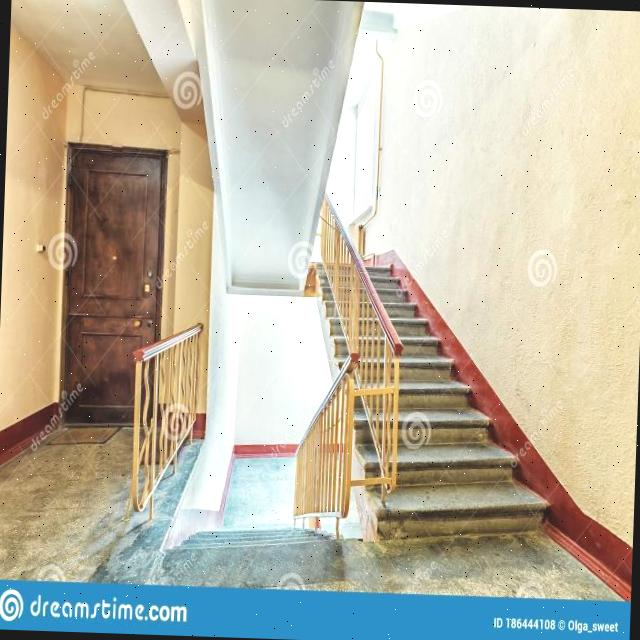stairs: (303, 253, 557, 548)
